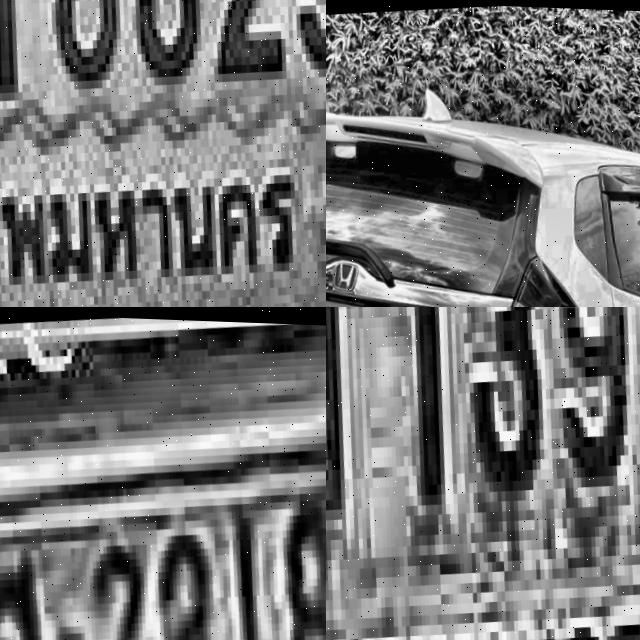license-plate: (326, 307, 640, 640), (0, 0, 326, 307), (0, 413, 326, 640), (326, 275, 399, 307)
